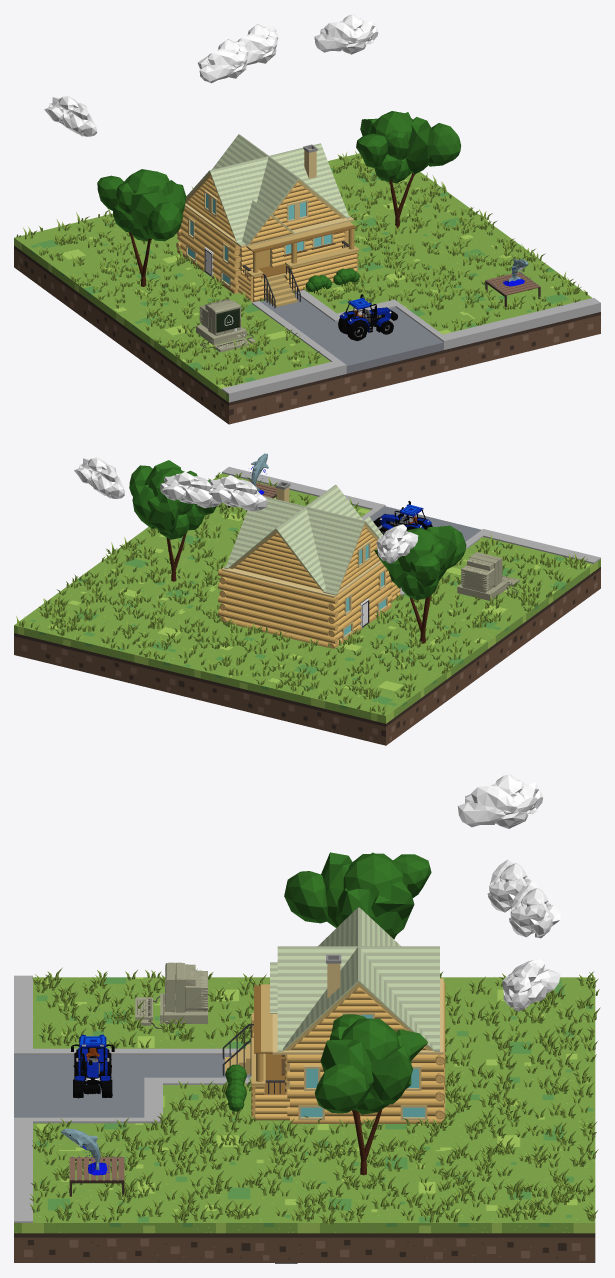
3 renders of one model, top to bottom at view 1: azimuth 30°, elevation 25°; view 2: azimuth 150°, elevation 25°; view 3: azimuth 270°, elevation 25°, orthographic. The views are drawn at different scales.
Visible parts, largest first — view 1: Cube.006, Cube.1516, Circle.012_Grass_0.192, Cube.007, tree, tree.001, OBJRANDOM_RETRO_PC, VEHICLES_TRACTOR, Cube.009; view 2: Cube.006, Cube.1516, Circle.012_Grass_0.192, Cube.007, tree.001, tree, OBJRANDOM_RETRO_PC, VEHICLES_TRACTOR; view 3: Cube.006, Circle.012_Grass_0.192, Cube.1516, tree, Cube.007, tree.001, OBJRANDOM_RETRO_PC, VEHICLES_TRACTOR, Cube.009, ANIMAL_DELFIN.
Boxes of the visible parts, x1,y1,x2,y2 form: Cube.006: (14, 153, 600, 424); Cube.1516: (176, 134, 359, 308); Circle.012_Grass_0.192: (16, 151, 587, 386); Cube.007: (44, 14, 378, 136); tree: (356, 111, 460, 228); tree.001: (97, 169, 186, 286); OBJRANDOM_RETRO_PC: (196, 298, 255, 352); VEHICLES_TRACTOR: (338, 294, 397, 341); Cube.009: (485, 272, 540, 306); Cube.006: (14, 467, 600, 745); Cube.1516: (218, 481, 400, 648); Circle.012_Grass_0.192: (16, 472, 587, 715); Cube.007: (74, 457, 418, 563); tree.001: (374, 525, 466, 643); tree: (129, 460, 216, 581); OBJRANDOM_RETRO_PC: (457, 552, 519, 600); VEHICLES_TRACTOR: (373, 501, 432, 534); Cube.006: (14, 975, 595, 1262); Circle.012_Grass_0.192: (29, 967, 600, 1224); Cube.1516: (222, 907, 445, 1123); tree: (314, 1014, 427, 1175); Cube.007: (457, 774, 560, 1011); tree.001: (284, 852, 431, 939); OBJRANDOM_RETRO_PC: (135, 962, 207, 1028); VEHICLES_TRACTOR: (71, 1034, 114, 1098); Cube.009: (69, 1156, 124, 1196); ANIMAL_DELFIN: (60, 1128, 109, 1175).
Bounding box in the file's own units: 4071 × 2184 × 4040.
Materials: 36 (4 with a texture image).
